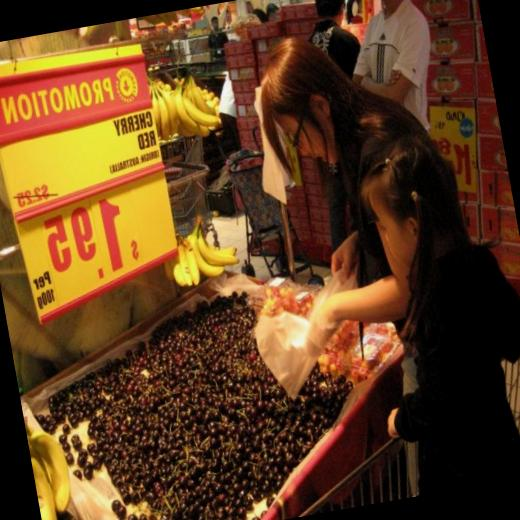Banana: (157, 208, 244, 288), (154, 60, 223, 138), (26, 426, 75, 515), (28, 438, 62, 520)
